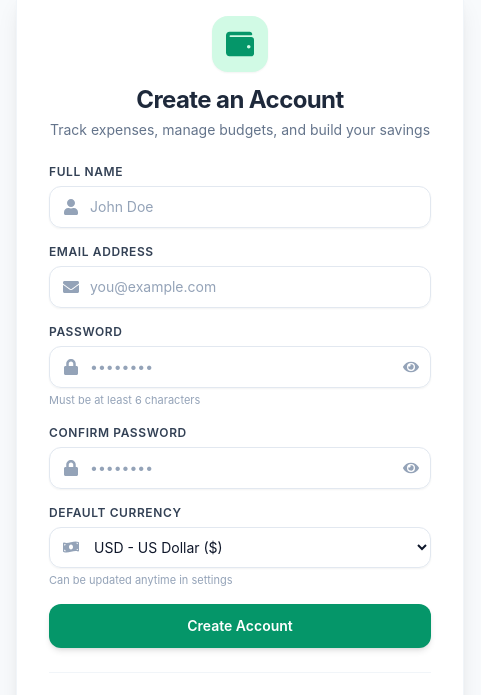
Test: RegisterPage Component › validates password confirmation mismatch
The width and height of the screenshot is (481, 695).
Type "Alice Smith" into the field labelled "Full Name". click: (240, 207)
box: 49,186 -> 431,228
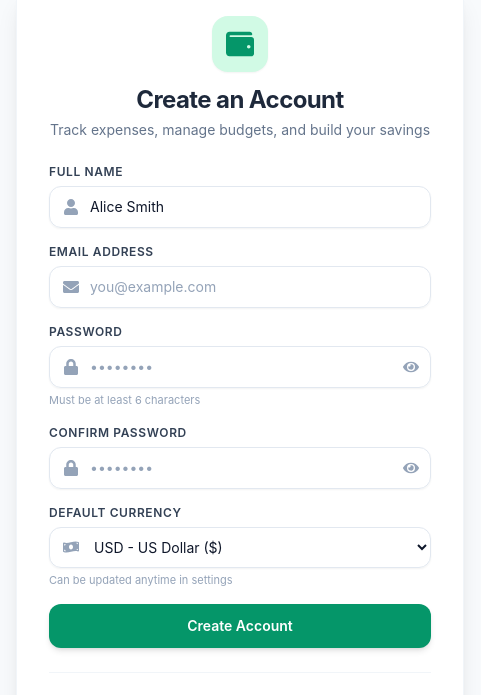
Type "alice@example.com" into the field labelled "Email Address". click: (240, 287)
box: 49,266 -> 431,308
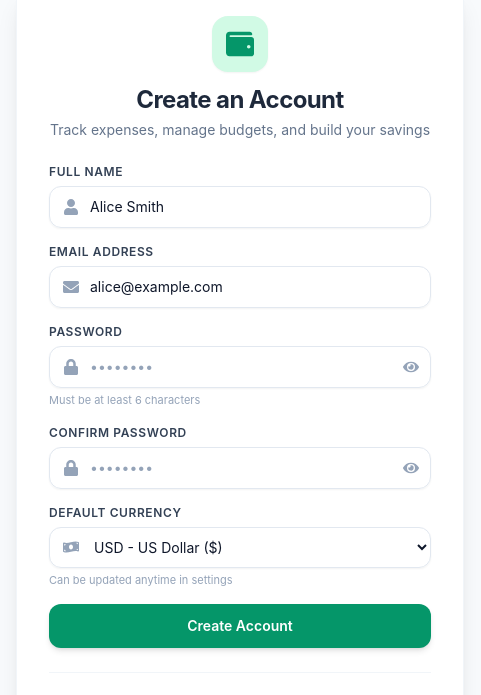
Type "secret123" into the password field with test id "register-password-input". click: (240, 367)
box: 49,346 -> 431,388
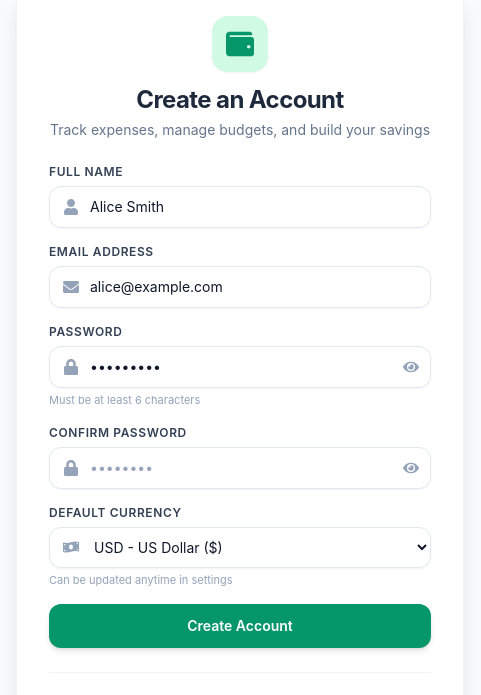
Type "different123" into the password field with test id "register-confirm-password-input". click: (240, 468)
box: 49,446 -> 431,488
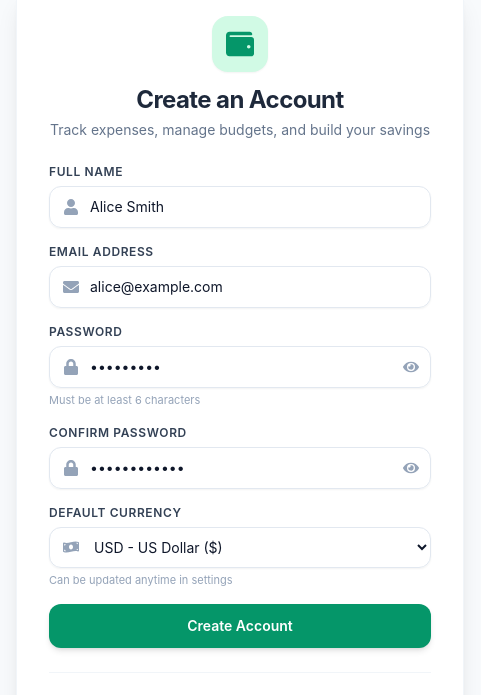
Click the button "Create Account". click: (240, 626)
box: 49,604 -> 431,648
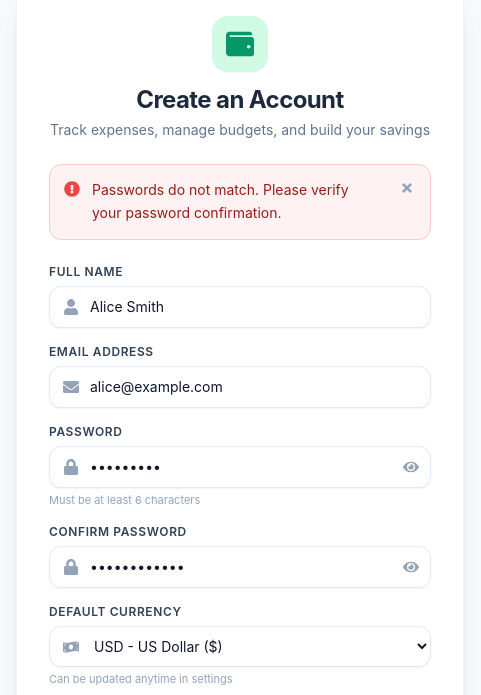
Expected: the message "Passwords do not match. Please verify your password confirmation." is shown, 49,164 -> 431,240
Expected: the text "Passwords do not match" is shown, 92,181 -> 349,221
